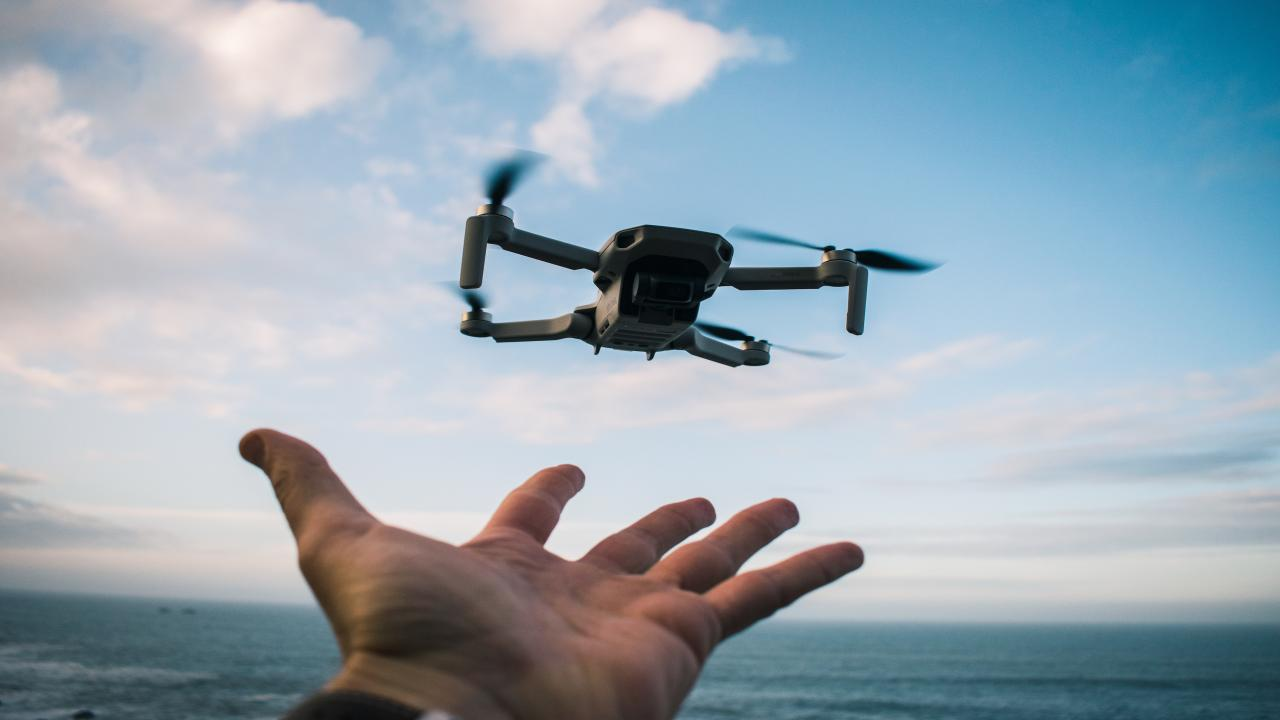Drone: (383, 131, 976, 393)
